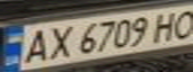0: (112, 16, 136, 50)
6: (75, 19, 100, 55)
7: (93, 17, 118, 52)
9: (127, 14, 157, 47)
A: (15, 26, 54, 65)
H: (148, 9, 184, 43)
O: (169, 6, 193, 39)
X: (42, 22, 75, 61)
